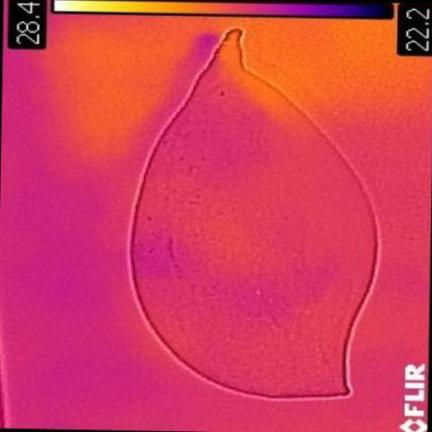mango: (130, 31, 378, 400)
